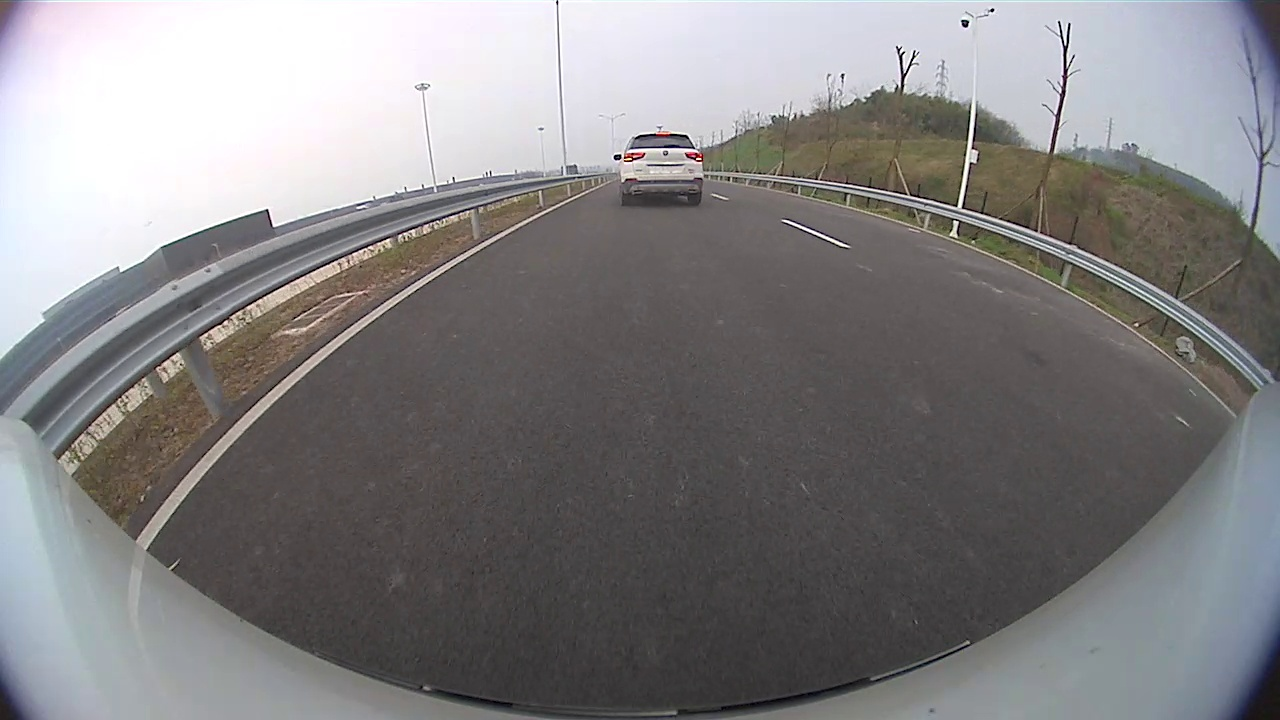car: (613, 133, 704, 206)
